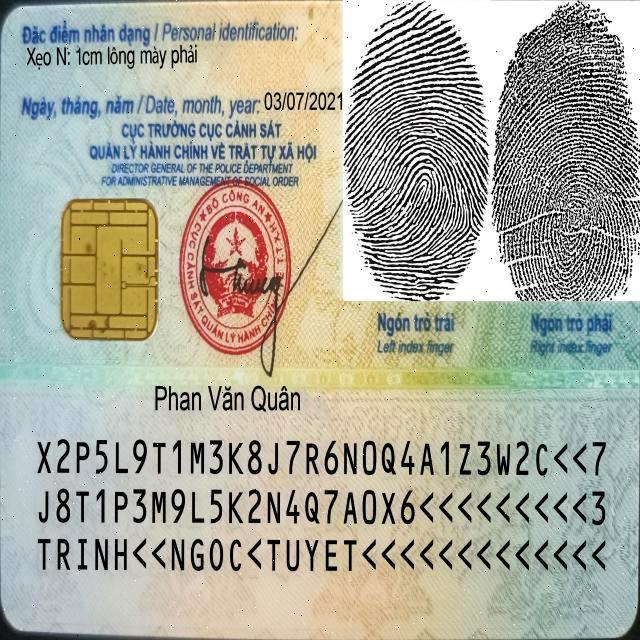features: (22, 36, 208, 74)
finger_print: (341, 0, 490, 360), (491, 0, 640, 360)
issue_date: (261, 82, 347, 120)
